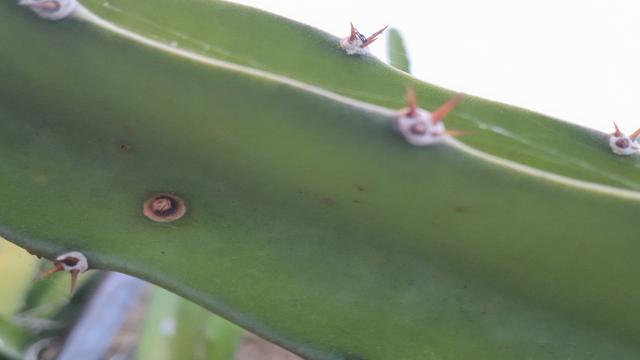stemcanker: (135, 186, 192, 227)
